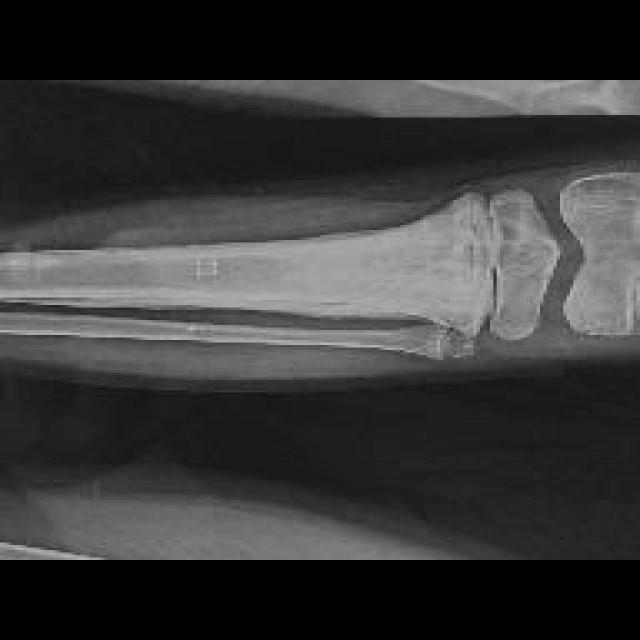bone-cancer: (107, 213, 549, 315)
